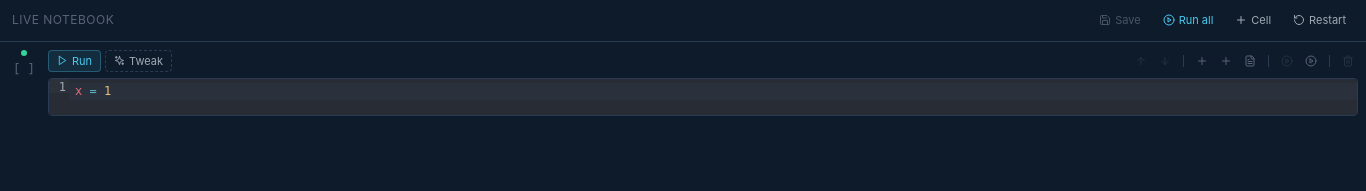
Test: LivePanel › Restart kernel button clears outputs and resets execution counts
Click the button with aria-label "Run cell": (75, 61) [48,50,101,72]
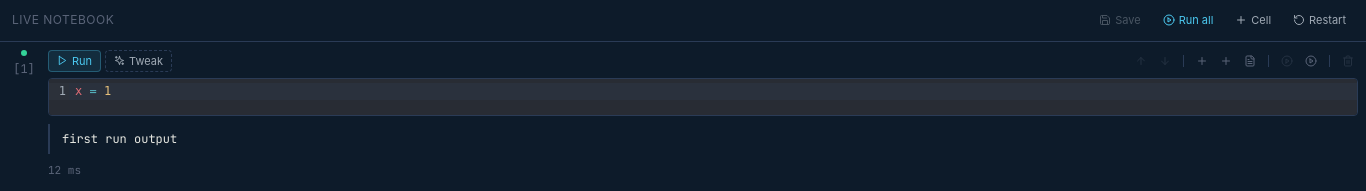
Check: the text "first run output" is shown, box [62,131,177,147]
Restart — outputs disappear, execution count becomes [ ].
Click the button with aria-label "Restart kernel": (1320, 20) [1285,8,1354,32]
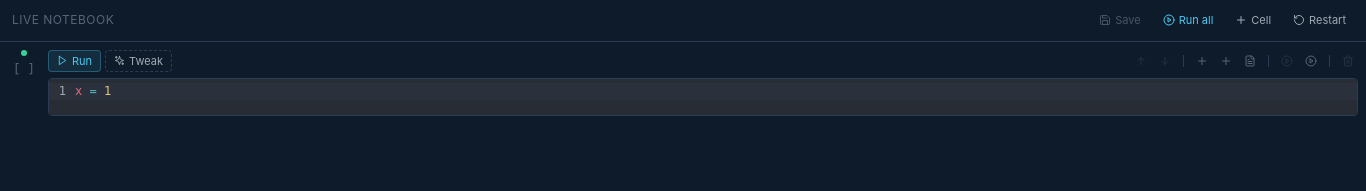
Check: the text "first run output" is gone
